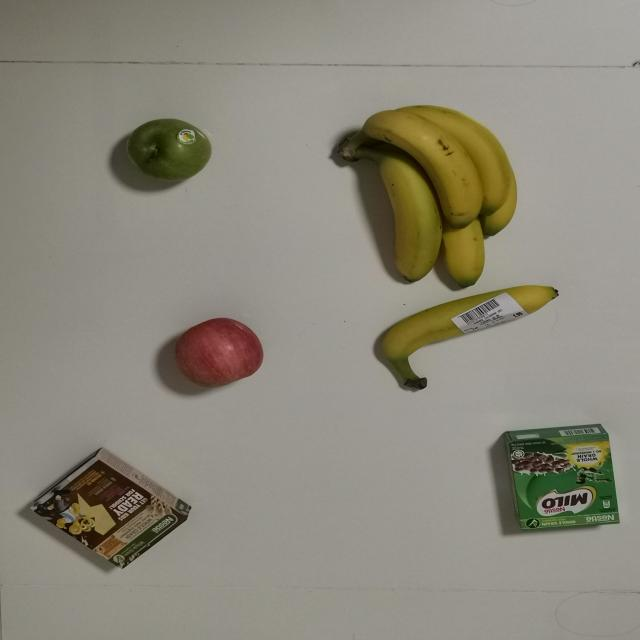Apple: (120, 112, 221, 186), (168, 317, 268, 391)
Banana: (320, 107, 536, 286), (368, 277, 563, 397)
Cerealbox: (14, 447, 202, 580), (503, 423, 620, 538)
